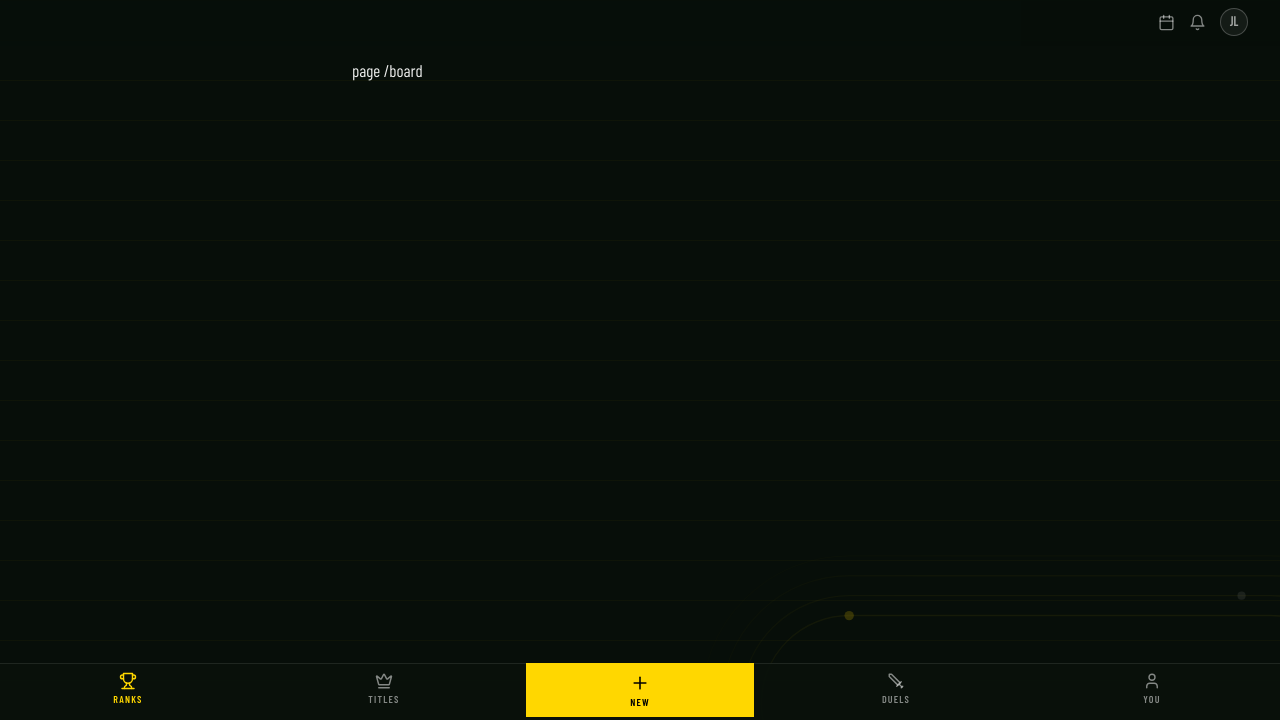
AvatarMenu › Settings navigerar till /settings
Step 1. Click the button with aria-label "Account menu" → (1234, 22), box [1220,8,1248,36]
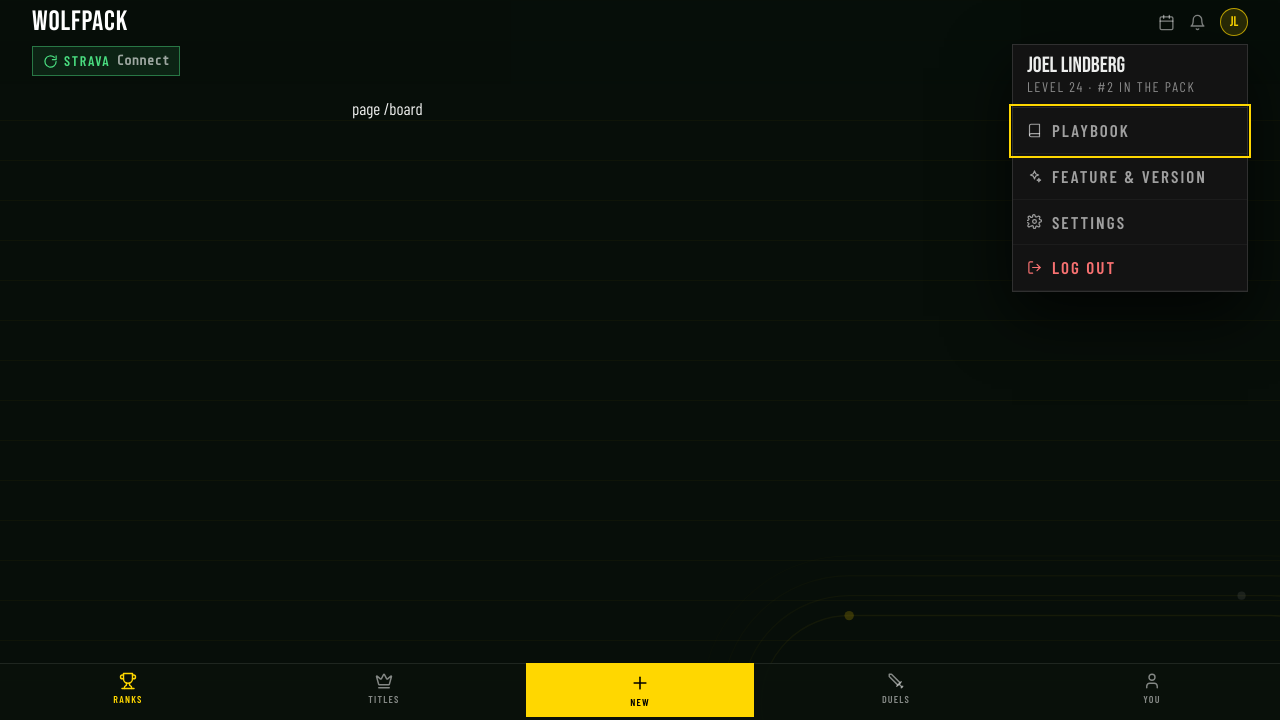
Step 2. Click the button "Settings" → (1130, 222), box [1013,200,1247,245]
(page scrolled)
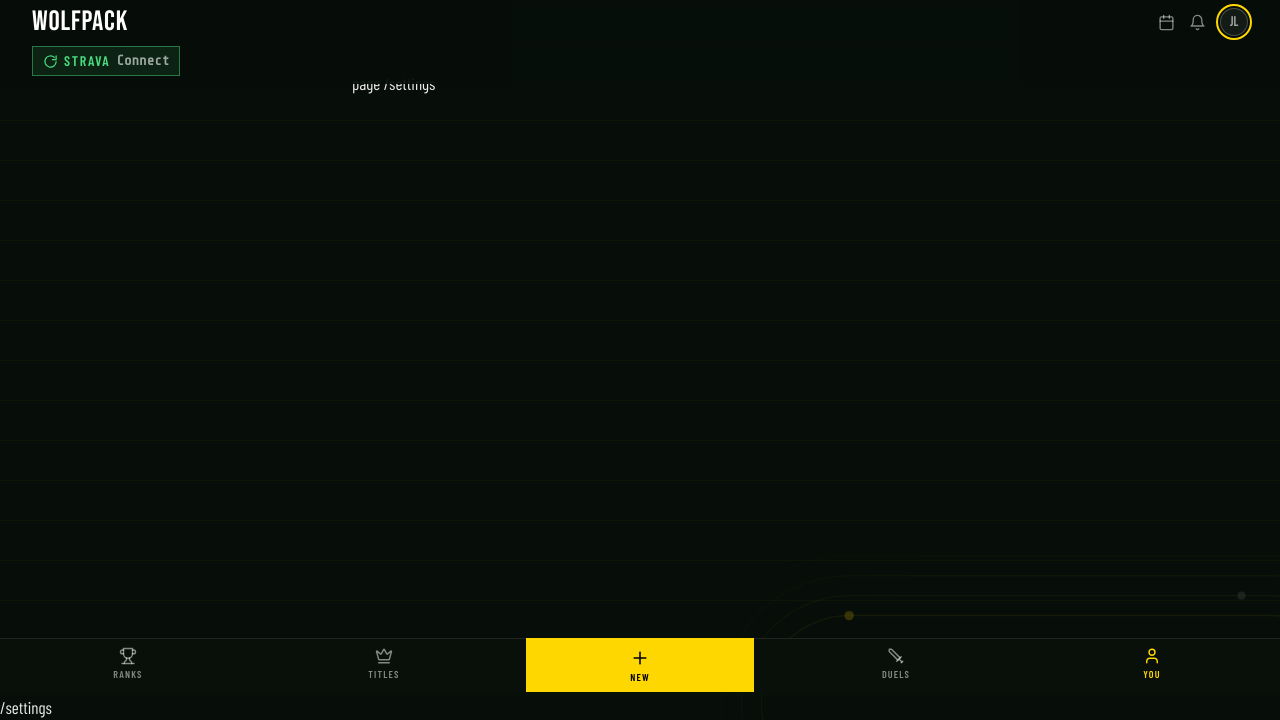
Now the text "page /settings" is shown, box [352,73,436,93]
Now the text with test id "location" reads "/settings", box [0,697,52,717]
